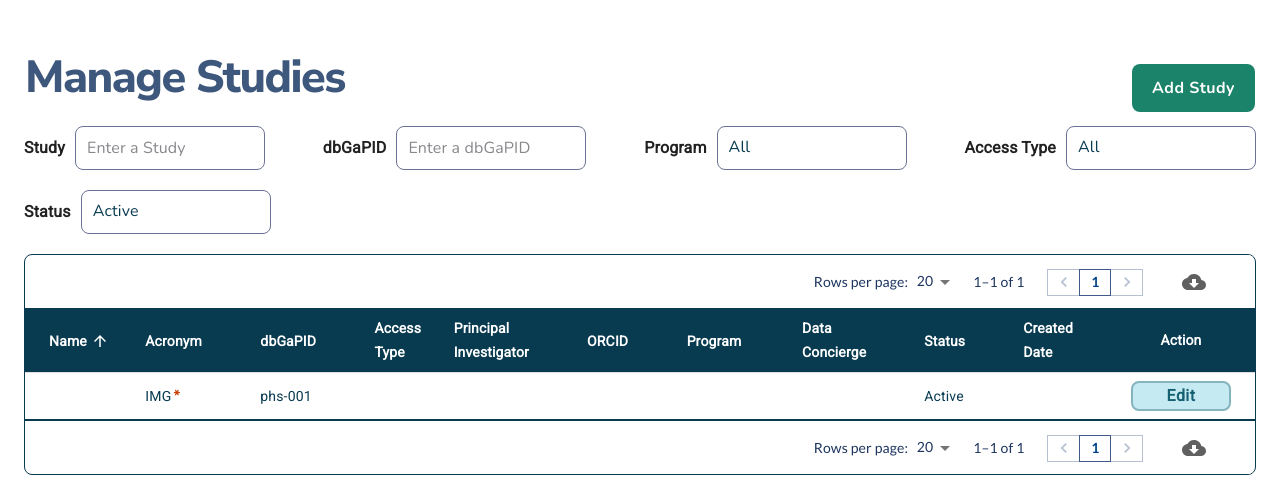
Test: Implementation Requirements › should render asterisk and correct tooltip for pending image de-identification condition
This screenshot has width=1273, height=492.
Check: the text "IMG" is shown, box [145,388,171,404]
Hover over the text with test id "asterisk-IMG": (177, 396) [173,385,181,407]
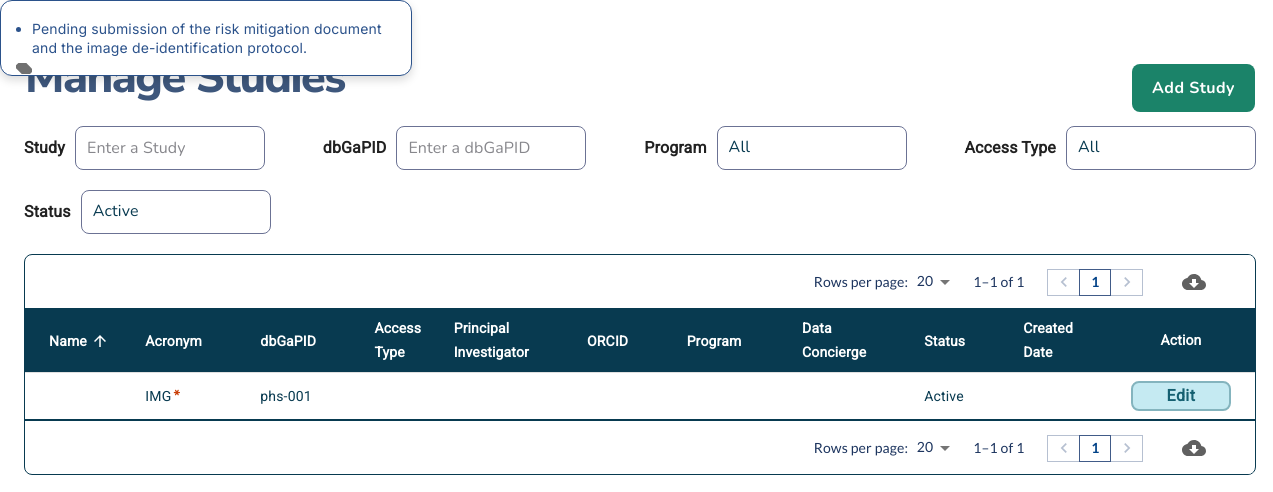
Check: the list item "Pending submission of the risk mitigation document and the image de-identification protocol." is shown, box [32,20,382,56]
